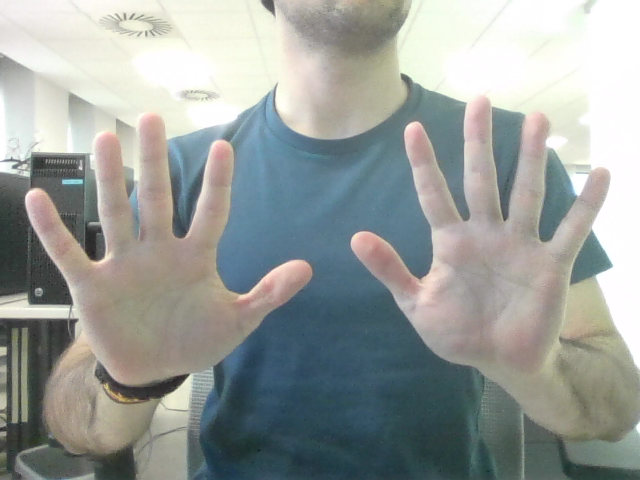Manos Arriba: (65, 121, 574, 338)
